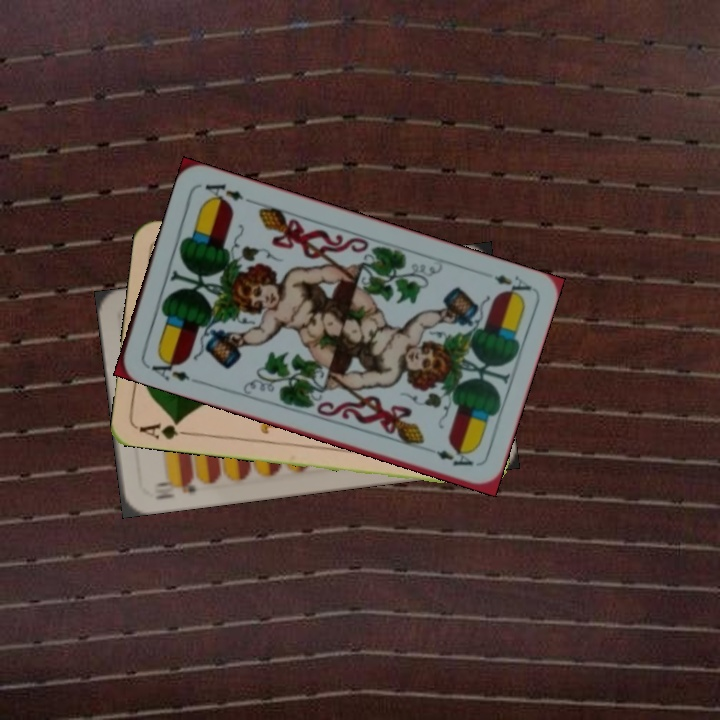E10: (152, 473, 199, 502)
EA: (142, 352, 193, 384), (490, 270, 534, 301)
GA: (135, 415, 194, 442)
